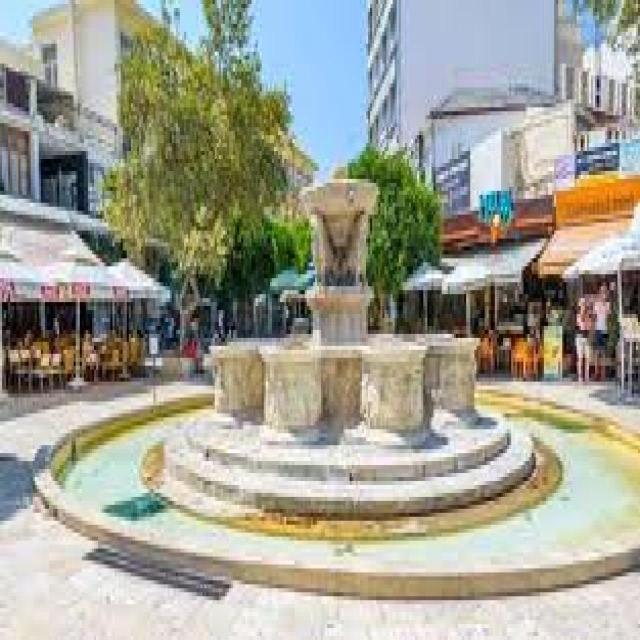Liontaria: (219, 187, 479, 437)
